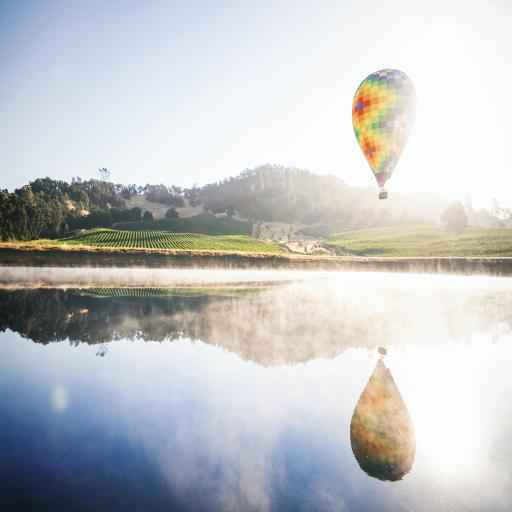hot air ballon: (352, 68, 417, 200)
